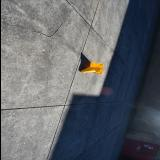cone: (80, 62, 102, 74)
